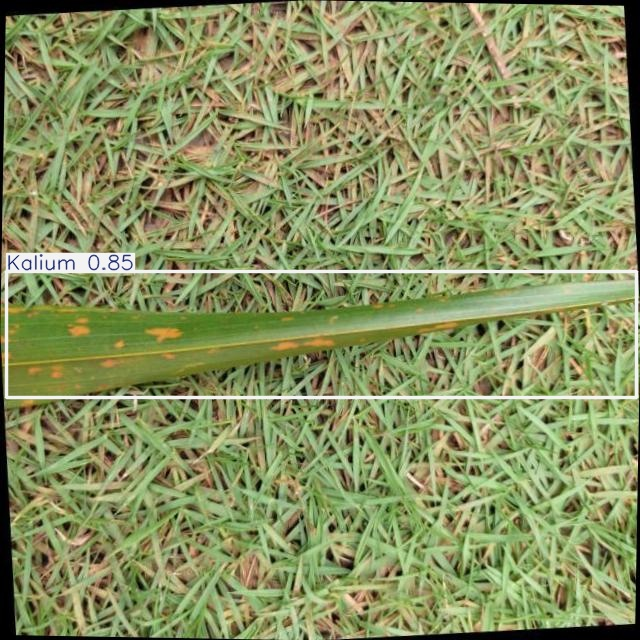Kalium: (6, 271, 637, 398)
